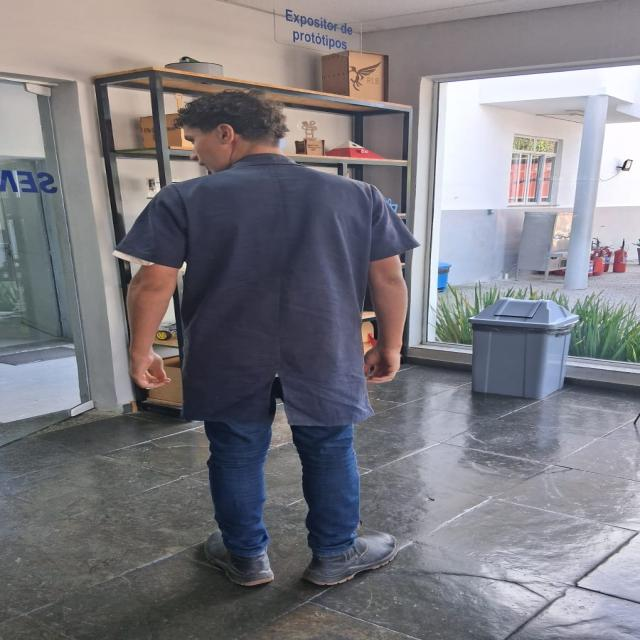BOTA: (302, 533, 402, 586), (201, 527, 277, 586)
JALECO: (109, 154, 427, 426)
SEM LUVA: (122, 350, 176, 390), (356, 345, 412, 383)
